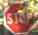Stop sign: (0, 0, 37, 34)
